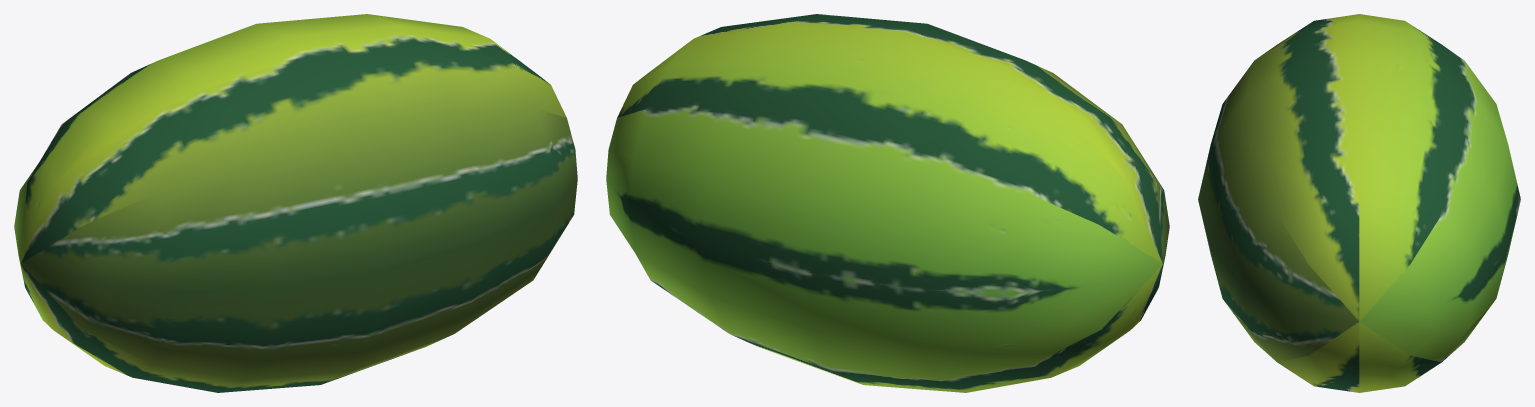
Rendered from watermelon.FBX.
The picture shows the model from 3 angles, left to right: view 1: azimuth 30°, elevation 25°; view 2: azimuth 150°, elevation 25°; view 3: azimuth 270°, elevation 25°; orthographic projection. The views are drawn at different scales.
Visible parts, largest first — view 1: Water Melon; view 2: Water Melon; view 3: Water Melon.
Part boxes in pixels (x1,y1,x2,y2): Water Melon: (14, 14, 577, 392); Water Melon: (606, 14, 1169, 392); Water Melon: (1198, 14, 1520, 392).
Size of the model in its own units: 30.16 by 17.81 by 17.81.
